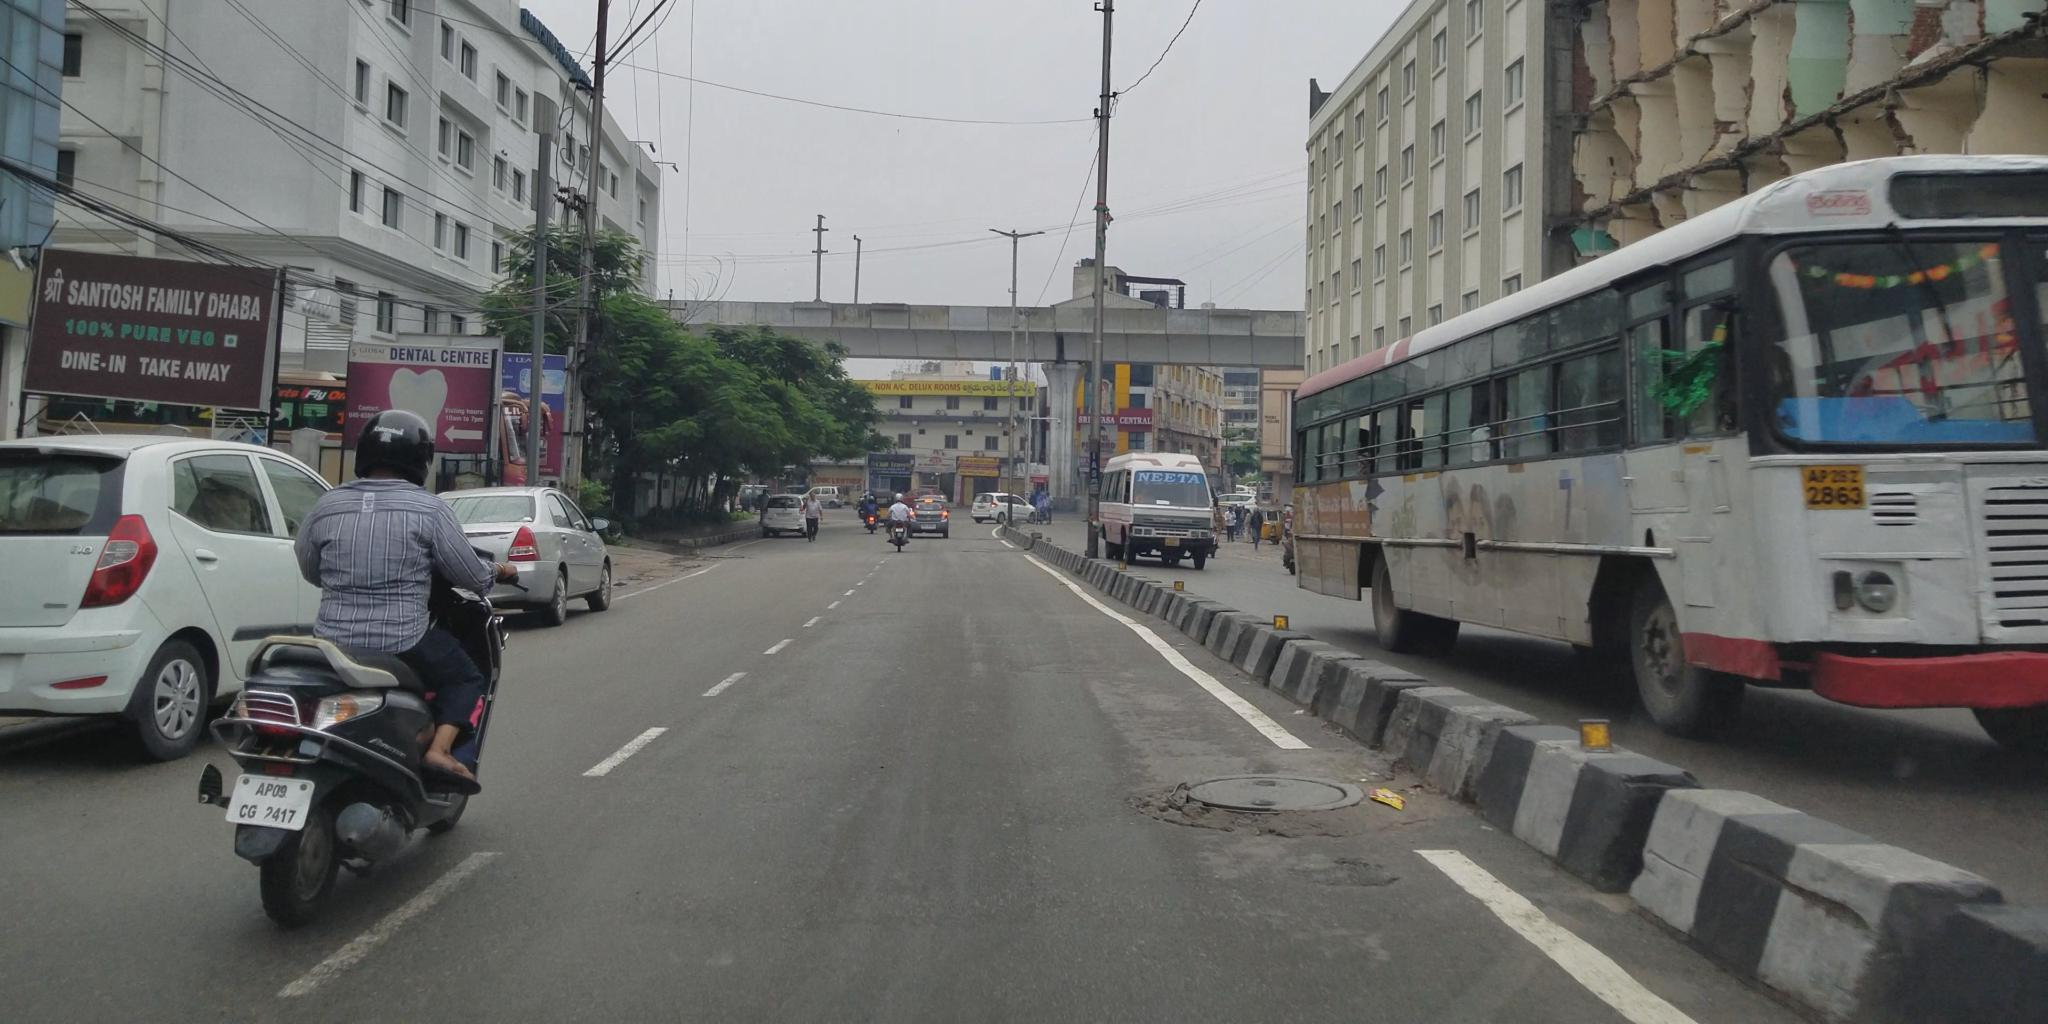off: (180, 0, 2036, 1024)
